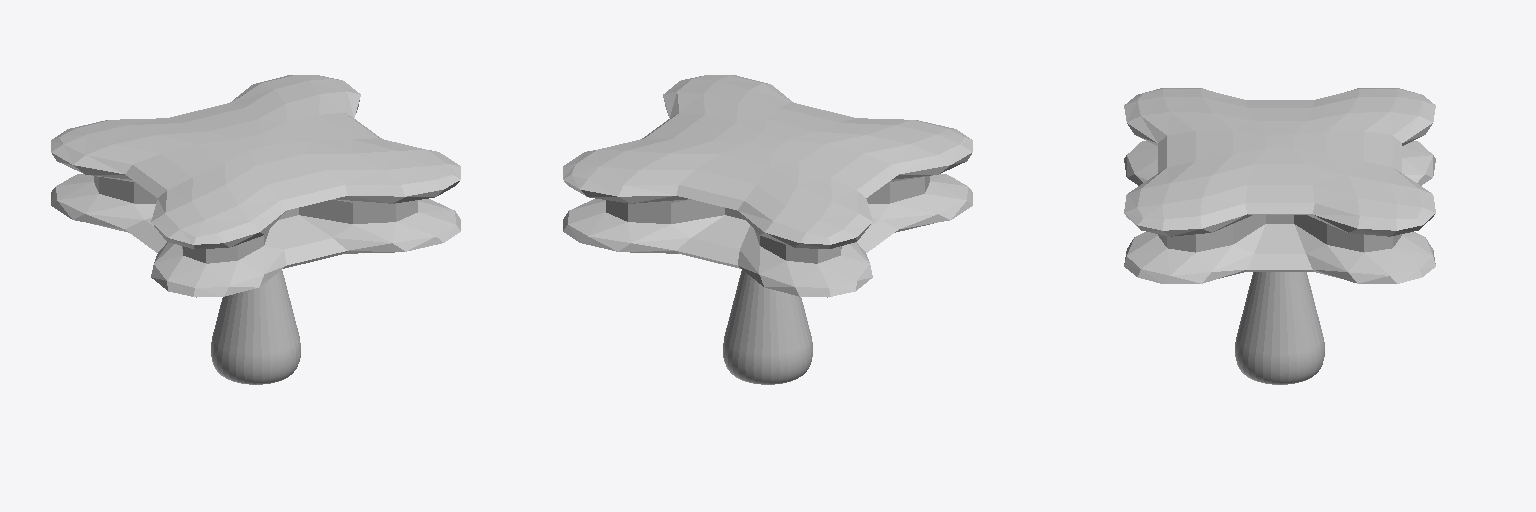
Rendered from champi.obj.
3 views of the same model, side by side, from view 1: azimuth 30°, elevation 25°; view 2: azimuth 150°, elevation 25°; view 3: azimuth 270°, elevation 25° (orthographic).
Visible parts, largest first — view 1: Cone; view 2: Cone; view 3: Cone.
Boxes of the visible parts, box(x1,y1,x2,y2) form: Cone: box(51, 75, 460, 384); Cone: box(563, 75, 972, 384); Cone: box(1124, 88, 1435, 384).
Size of the model in its own units: 6.5 by 4.84 by 5.99.